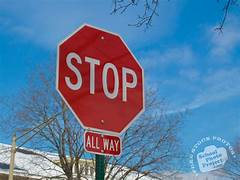stop: (55, 23, 145, 134)
